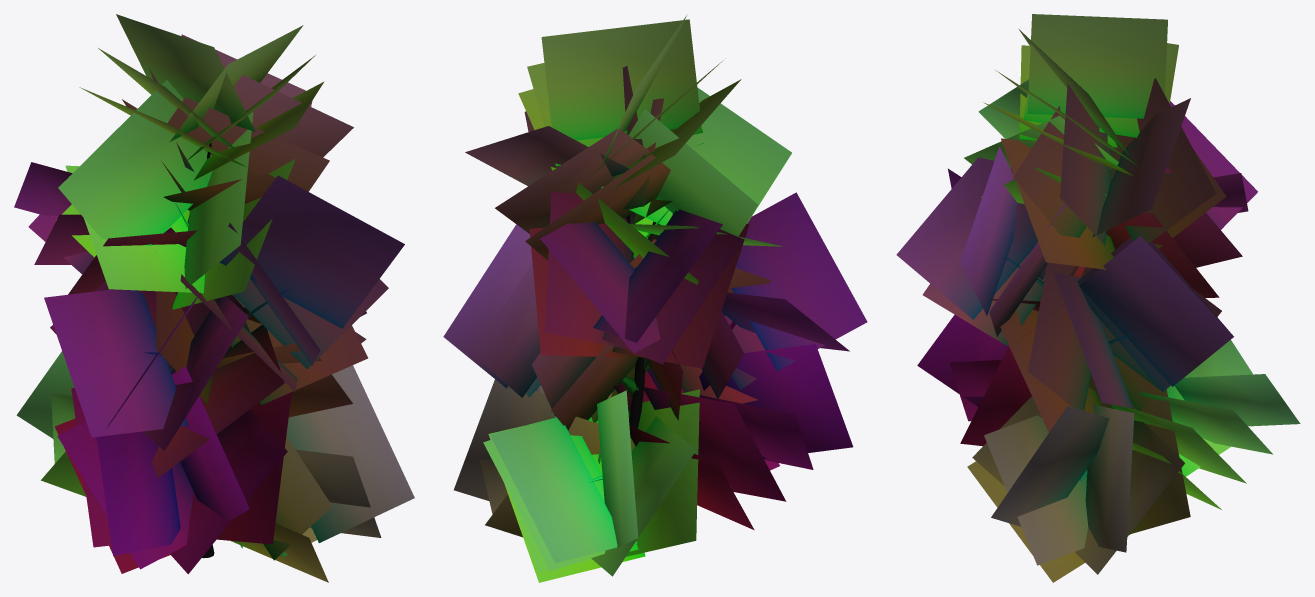
The model's file is URP_P15_Tree_3_LOD_2.fbx.
3 renders of one model, left to right at view 1: azimuth 30°, elevation 25°; view 2: azimuth 150°, elevation 25°; view 3: azimuth 270°, elevation 25°, orthographic. The views are drawn at different scales.
Parts seen in each view (by area): view 1: Tree_3_LOD_2; view 2: Tree_3_LOD_2; view 3: Tree_3_LOD_2.
Boxes of the visible parts, x1,y1,x2,y2 form: Tree_3_LOD_2: (14,14,414,582); Tree_3_LOD_2: (443,14,867,582); Tree_3_LOD_2: (896,14,1300,582).
Size of the model in its own units: 476 by 765 by 546.
